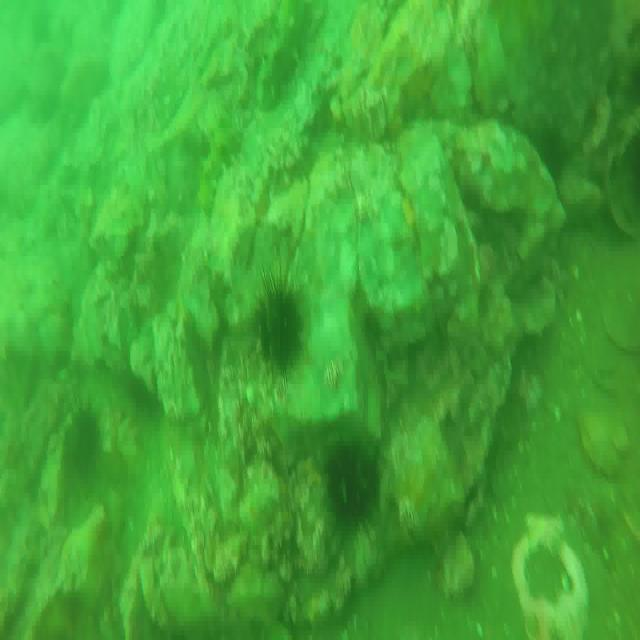echinus: (326, 436, 382, 529), (256, 279, 304, 366)
